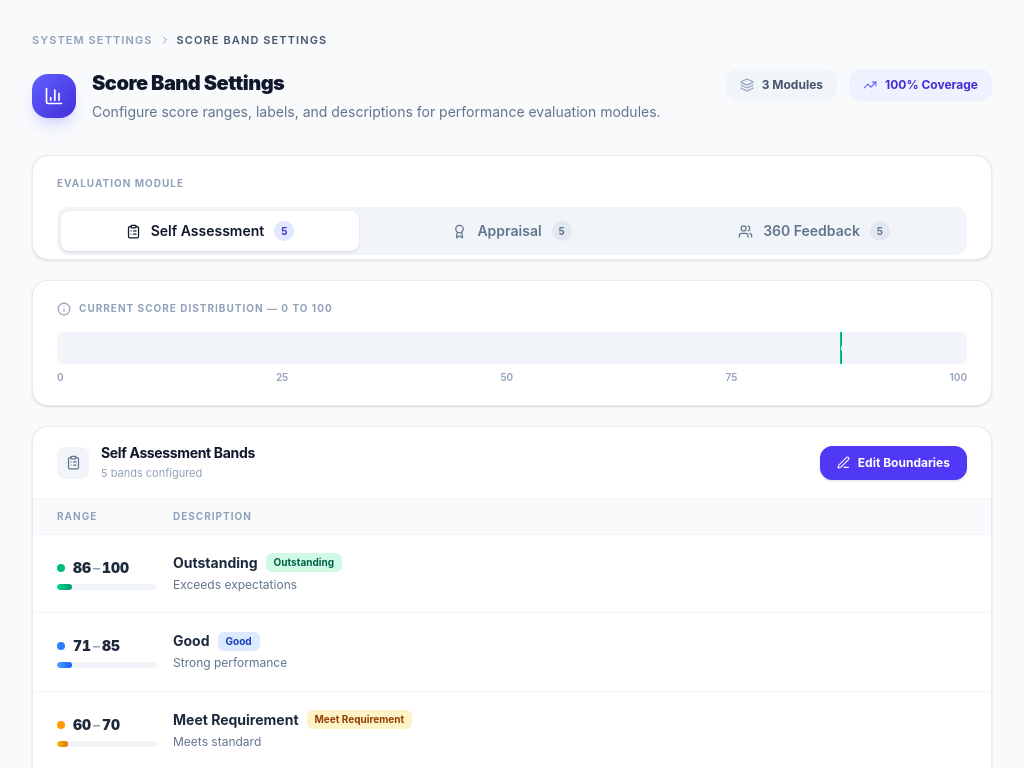
Test case: ScoreExplanationSettingsPage › switches module when a tab is clicked
What coordinates should you click on to do the following:
click the button "Appraisal 5"
I would click on:
 (512, 231)
Its box is [363,211,661,251].
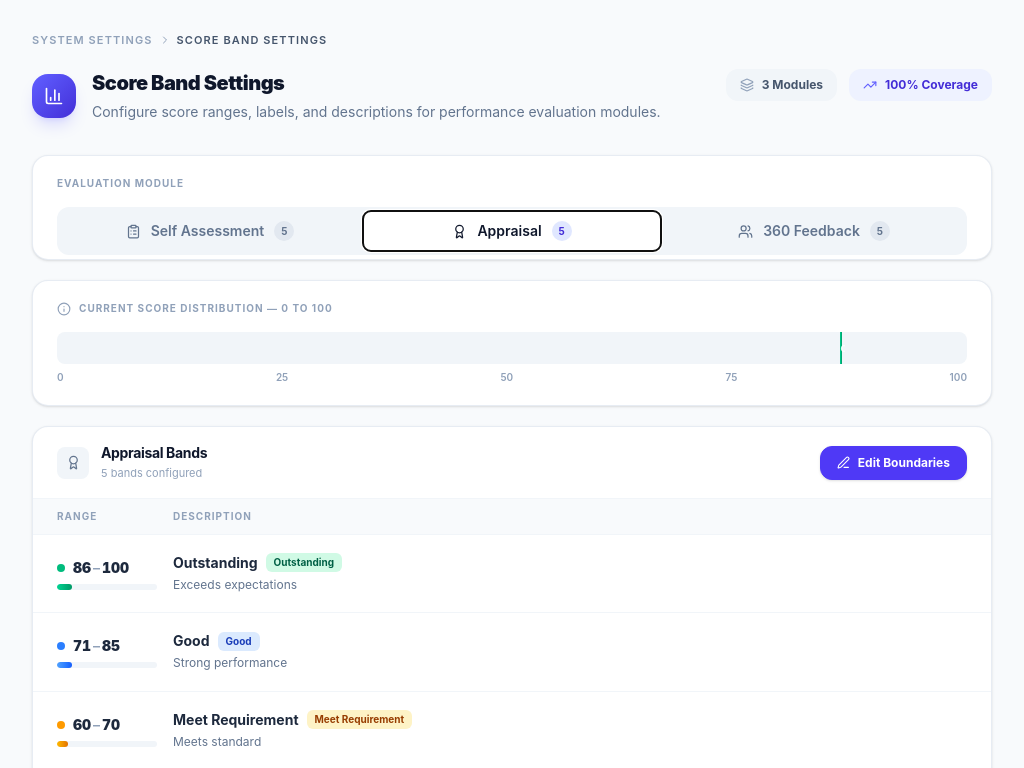
Result: the heading "Appraisal Bands" is shown at [101,443,207,463]
